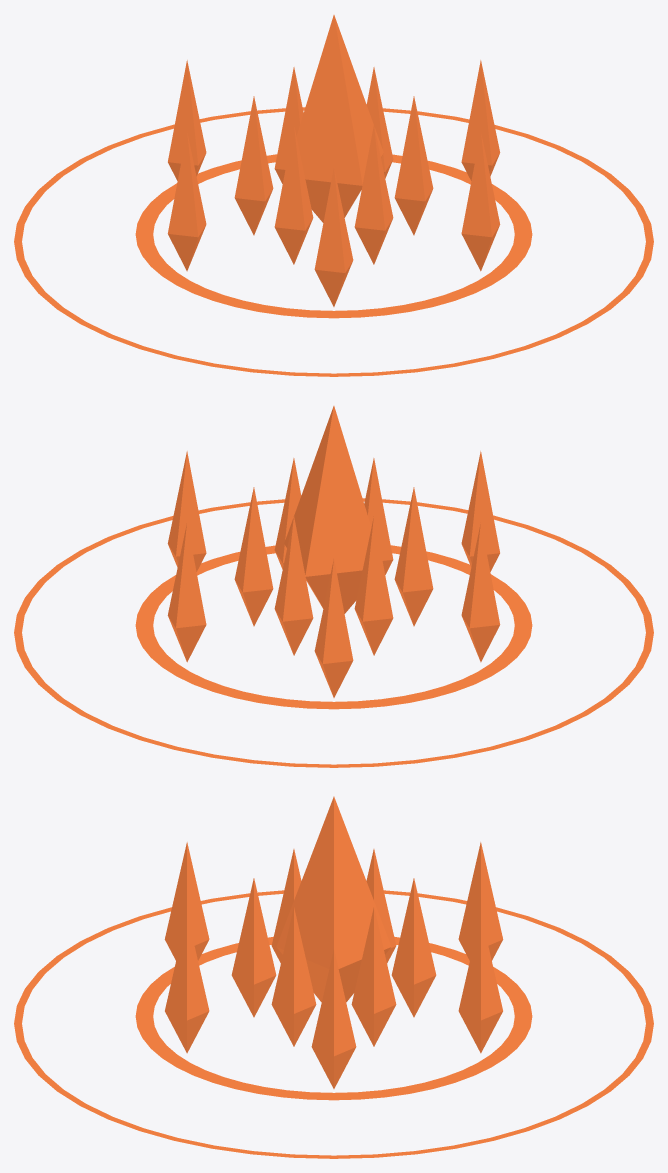
The model's file is mage.glb.
3 views of the same model, one above another, from view 1: azimuth 30°, elevation 25°; view 2: azimuth 150°, elevation 25°; view 3: azimuth 270°, elevation 25° (orthographic).
Visible parts, largest first — view 1: mage_ultimate; view 2: mage_ultimate; view 3: mage_ultimate.
Part boxes in pixels (x1,y1,x2,y2): mage_ultimate: (14,15,653,376); mage_ultimate: (14,406,653,767); mage_ultimate: (14,796,653,1158).
Size of the model in its own units: 2 by 0.785 by 2.
